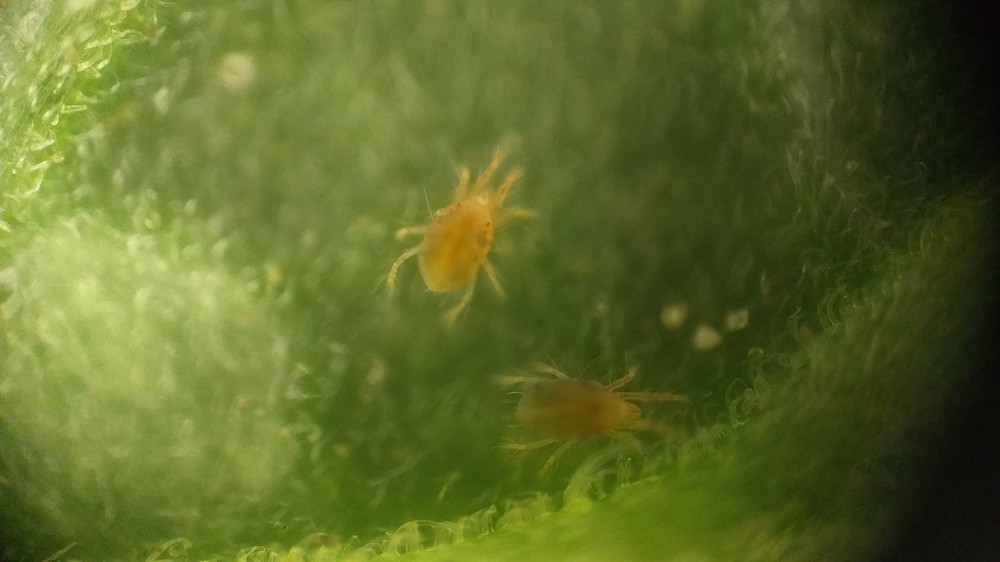Aracnido Rojo: (366, 126, 540, 329), (475, 338, 703, 474)
